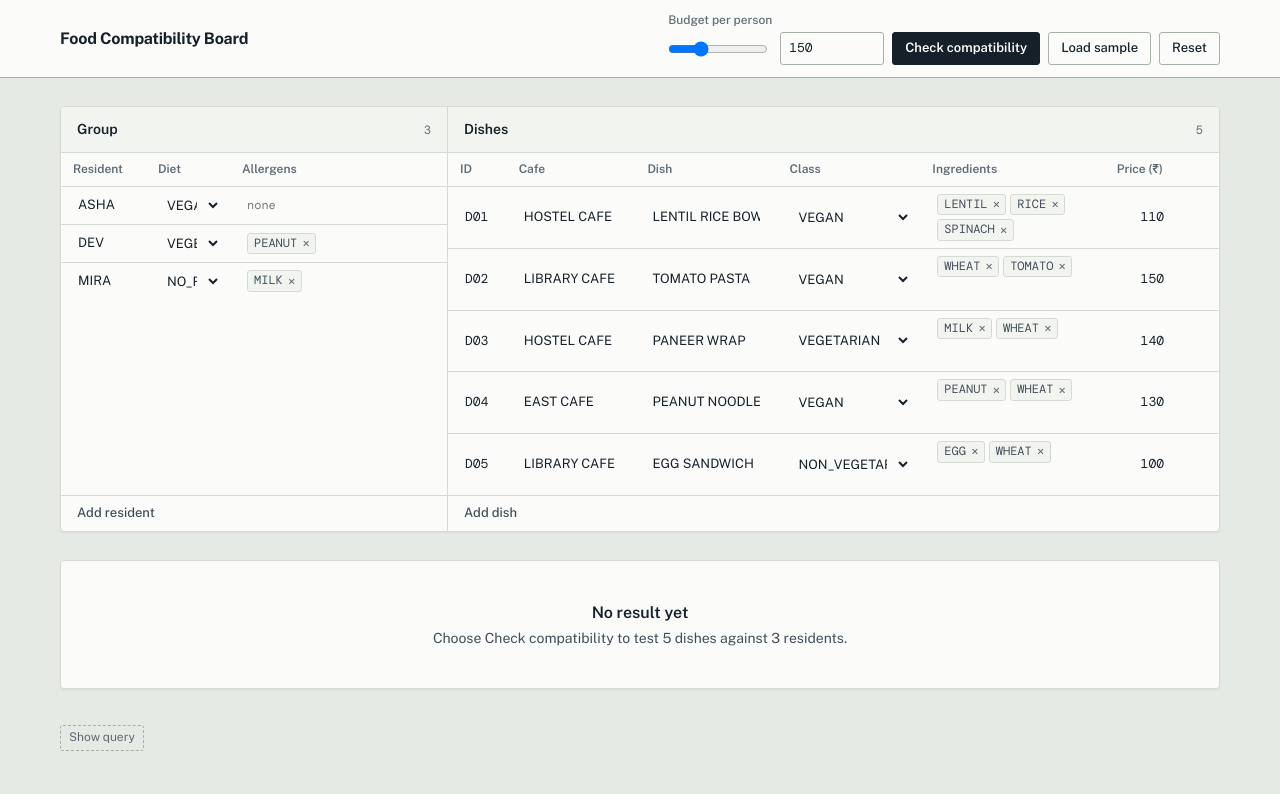
Test: screen stays synchronized with the inputs › discards a calculated result as soon as any row is edited
Click the button "Check compatibility" at (966, 49), box [892,32,1040,65]
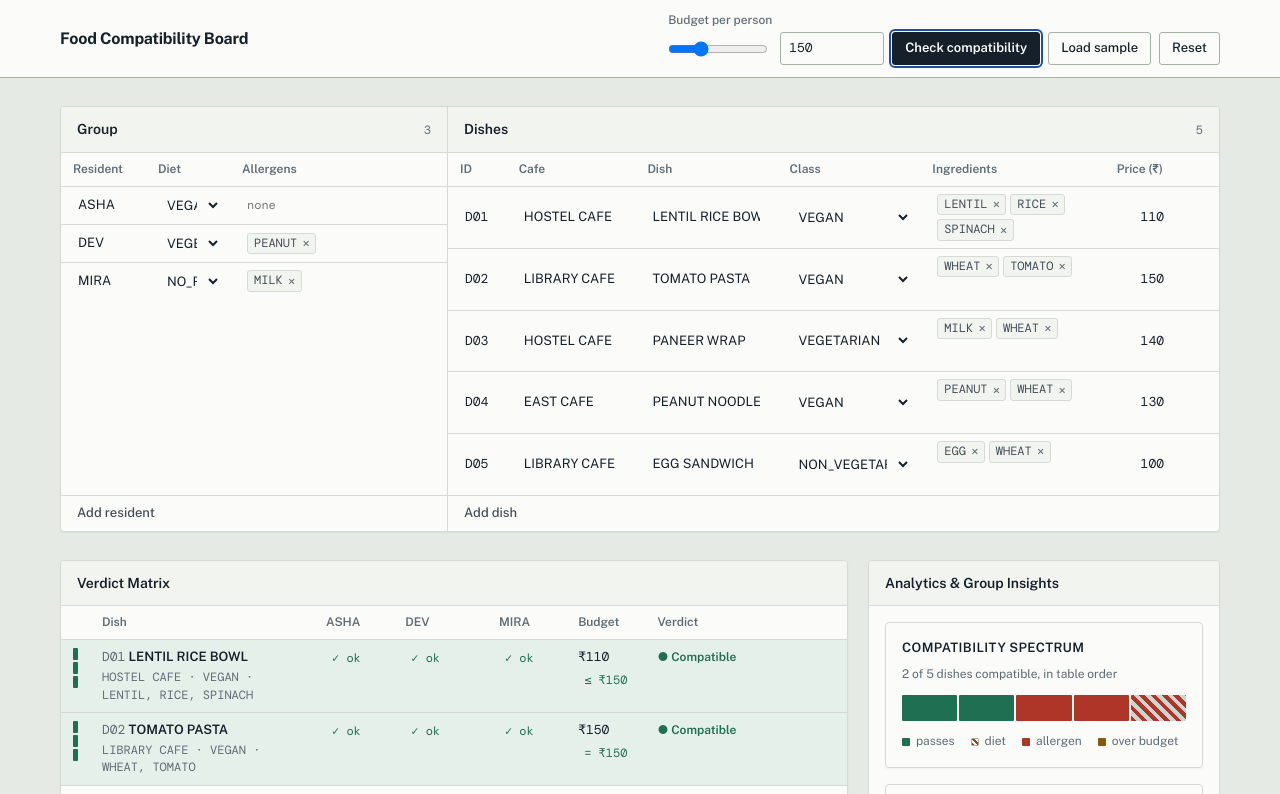
Type "x" into the field named "Resident 1 name" at (103, 205), box [69,190,138,221]
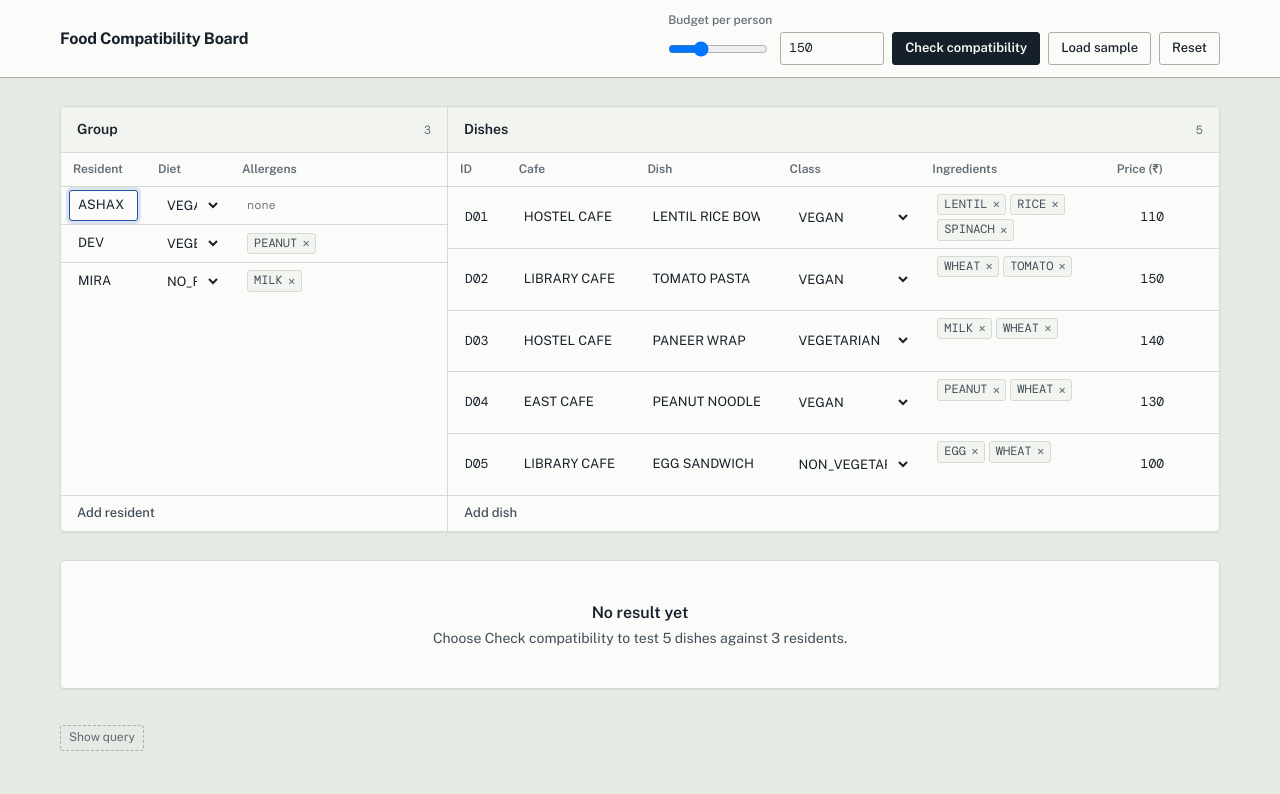
Check: the text "No result yet" is shown, box [592,603,688,622]
